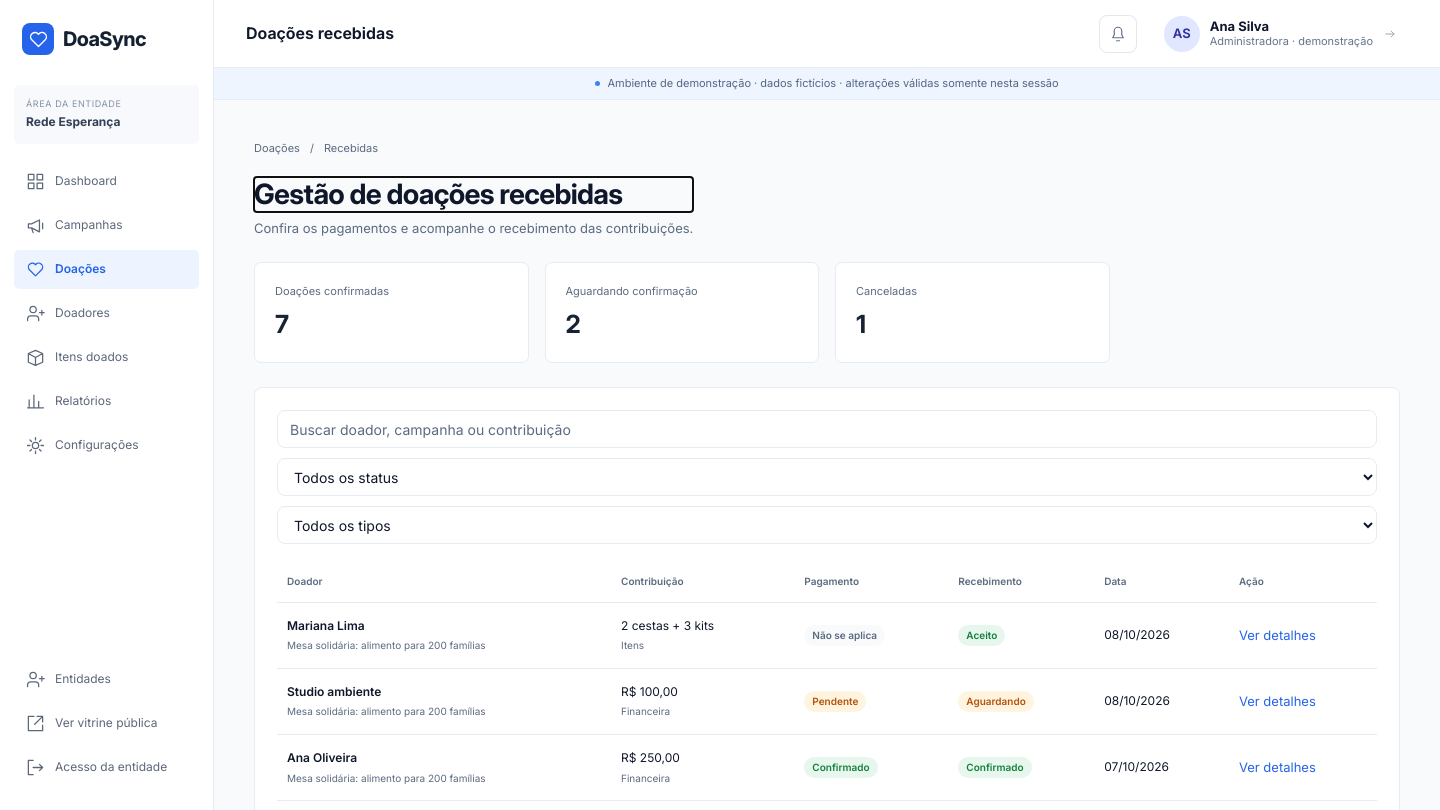
Scenario: gestão de doações recebidas (DEV-DOA) › confirma o recebimento de itens pendentes e avisa que é só demonstração
Expected: the heading "Gestão de doações recebidas" is shown, [254,177,622,211]
Click the button with aria-label "Ver doação 1 de Mariana Lima" at (1277, 635), box [1239,625,1316,645]
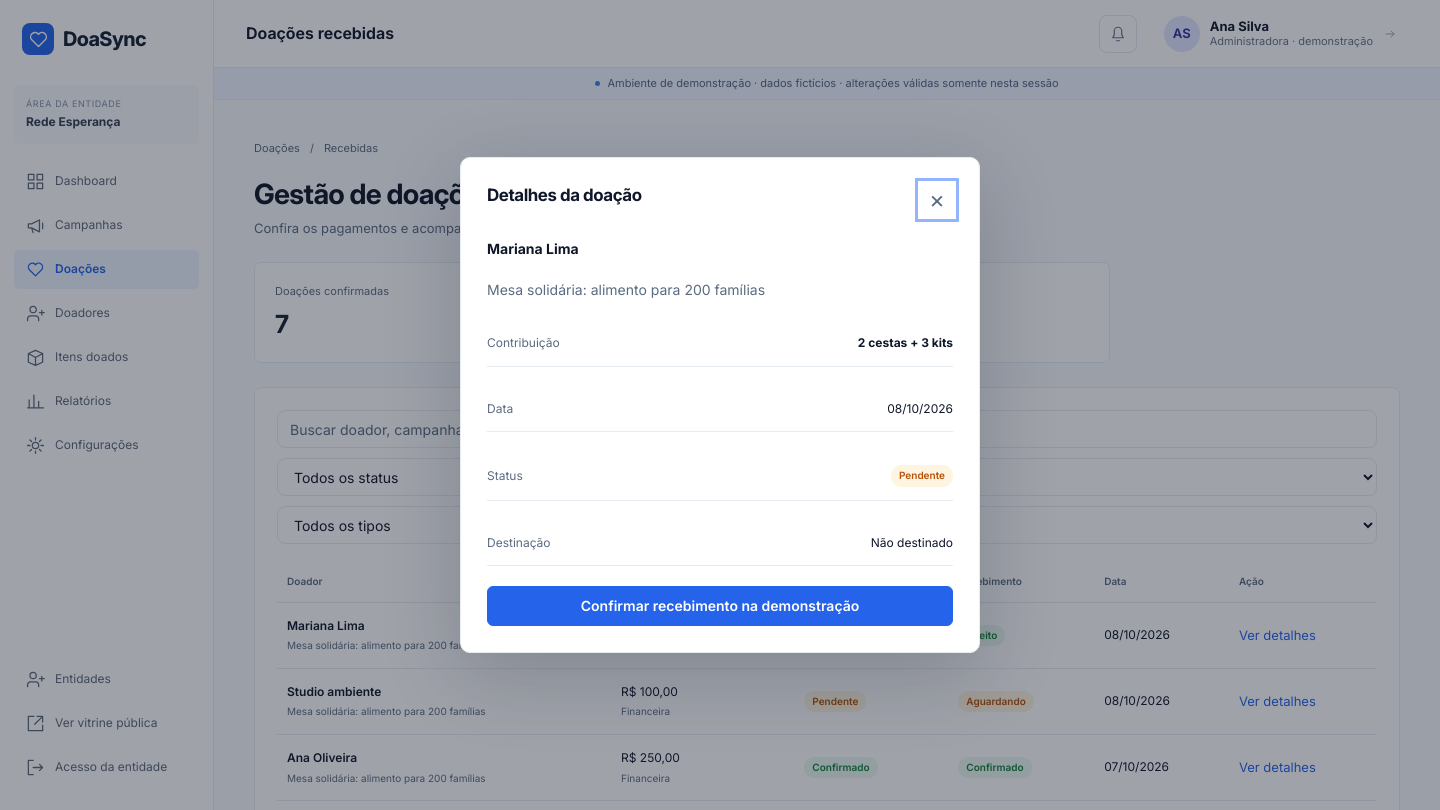
Expected: the heading "Detalhes da doação" is shown, [487,184,642,207]
Expected: the text "2 cestas + 3 kits" is shown, [858,334,953,353]
Click the button "Confirmar recebimento na demonstração" at (720, 606), box [487,586,953,626]
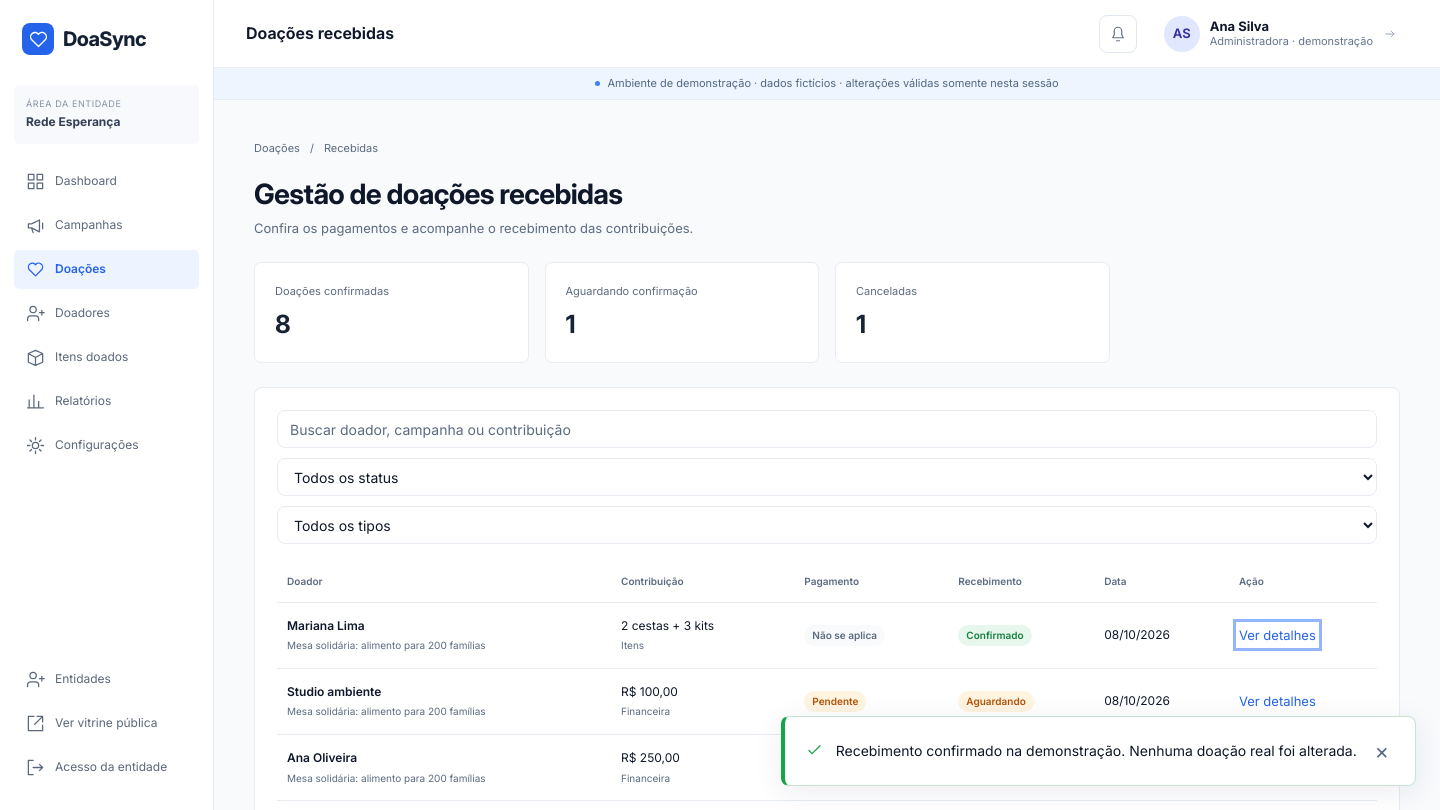
Expected: the dialog is gone
Expected: the text "Recebimento confirmado na demonstração. Nenhuma doação real foi alterada." is shown, [836,740,1357,762]
Expected: the text "Aguardando confirmação" shows "1", [566,309,575,339]
